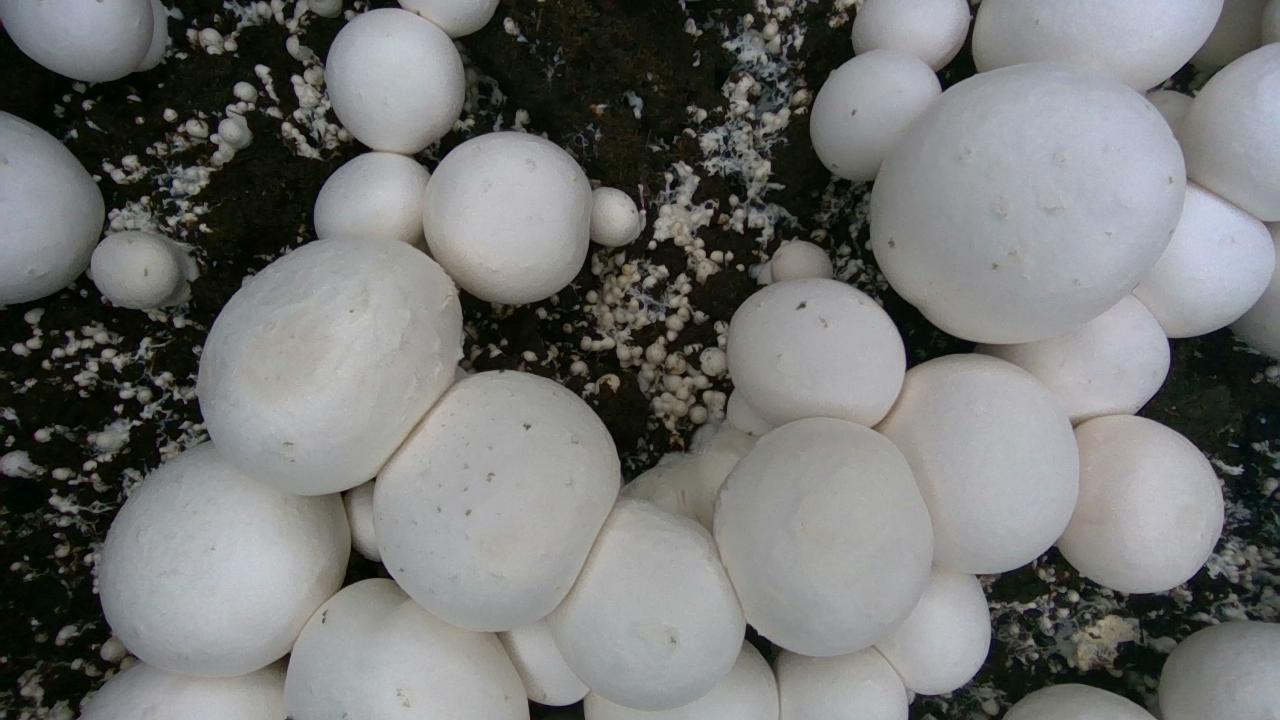WB: (870, 63, 1185, 342), (197, 236, 462, 494), (373, 371, 619, 630), (99, 443, 350, 676), (714, 417, 935, 657), (876, 353, 1078, 573), (547, 497, 745, 709), (285, 579, 528, 719), (1057, 415, 1223, 592), (423, 131, 592, 304), (727, 278, 905, 426), (976, 296, 1169, 423), (972, 0, 1222, 91), (1133, 183, 1274, 337), (325, 8, 464, 154), (1179, 42, 1279, 220), (810, 50, 941, 180), (584, 641, 779, 719), (876, 567, 990, 694), (0, 0, 152, 80), (1159, 621, 1279, 719), (80, 662, 285, 719), (314, 151, 429, 244), (775, 647, 907, 719), (852, 0, 970, 70), (498, 619, 588, 705), (90, 230, 179, 308), (1230, 222, 1279, 359), (1003, 684, 1153, 719), (398, 0, 499, 36), (590, 186, 645, 246), (771, 238, 832, 280)
